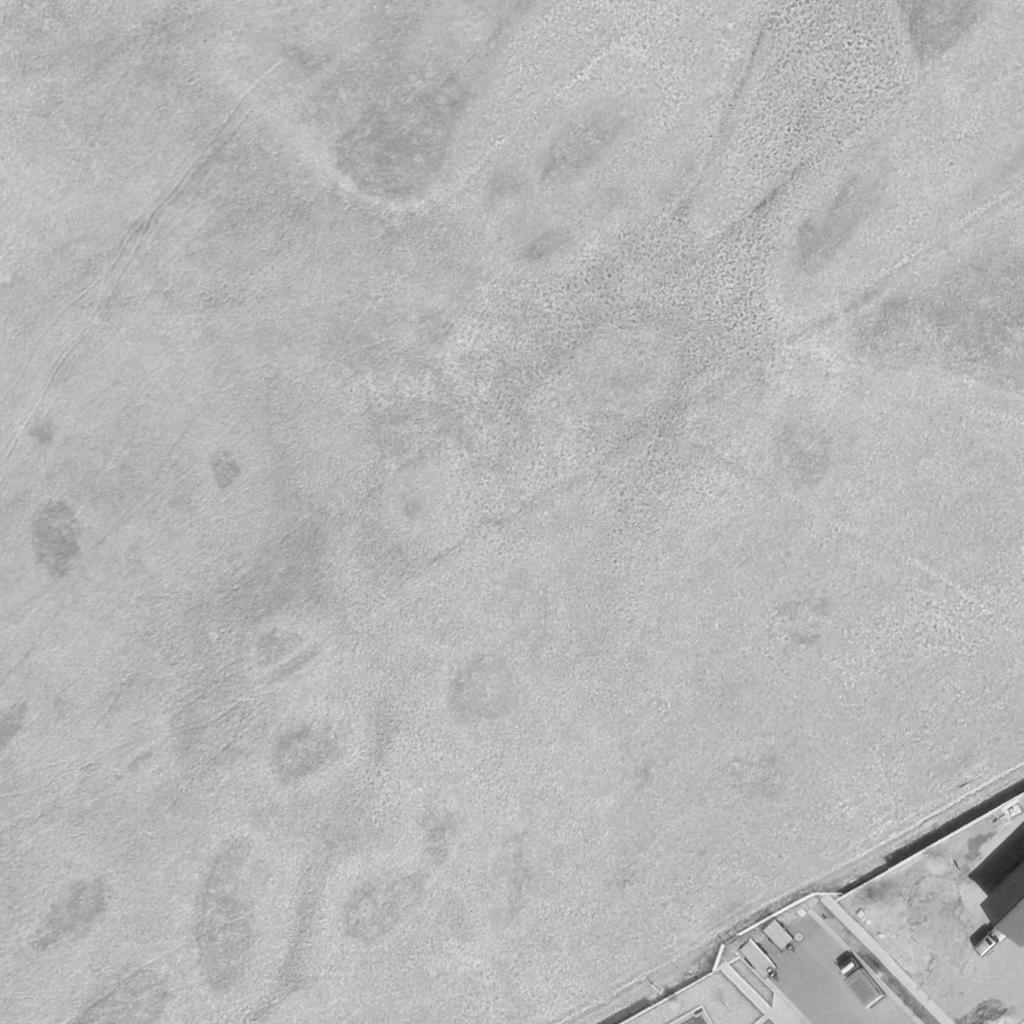vehicle: (832, 957, 888, 1011), (976, 924, 1008, 960)
